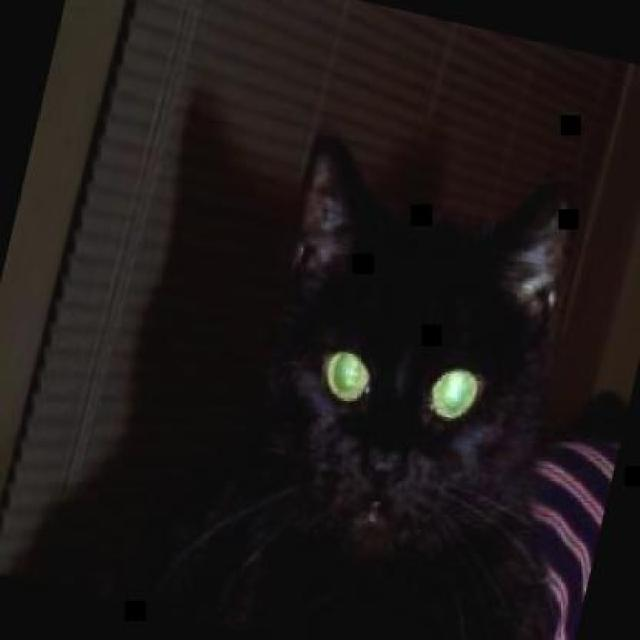cat: (156, 107, 604, 638)
